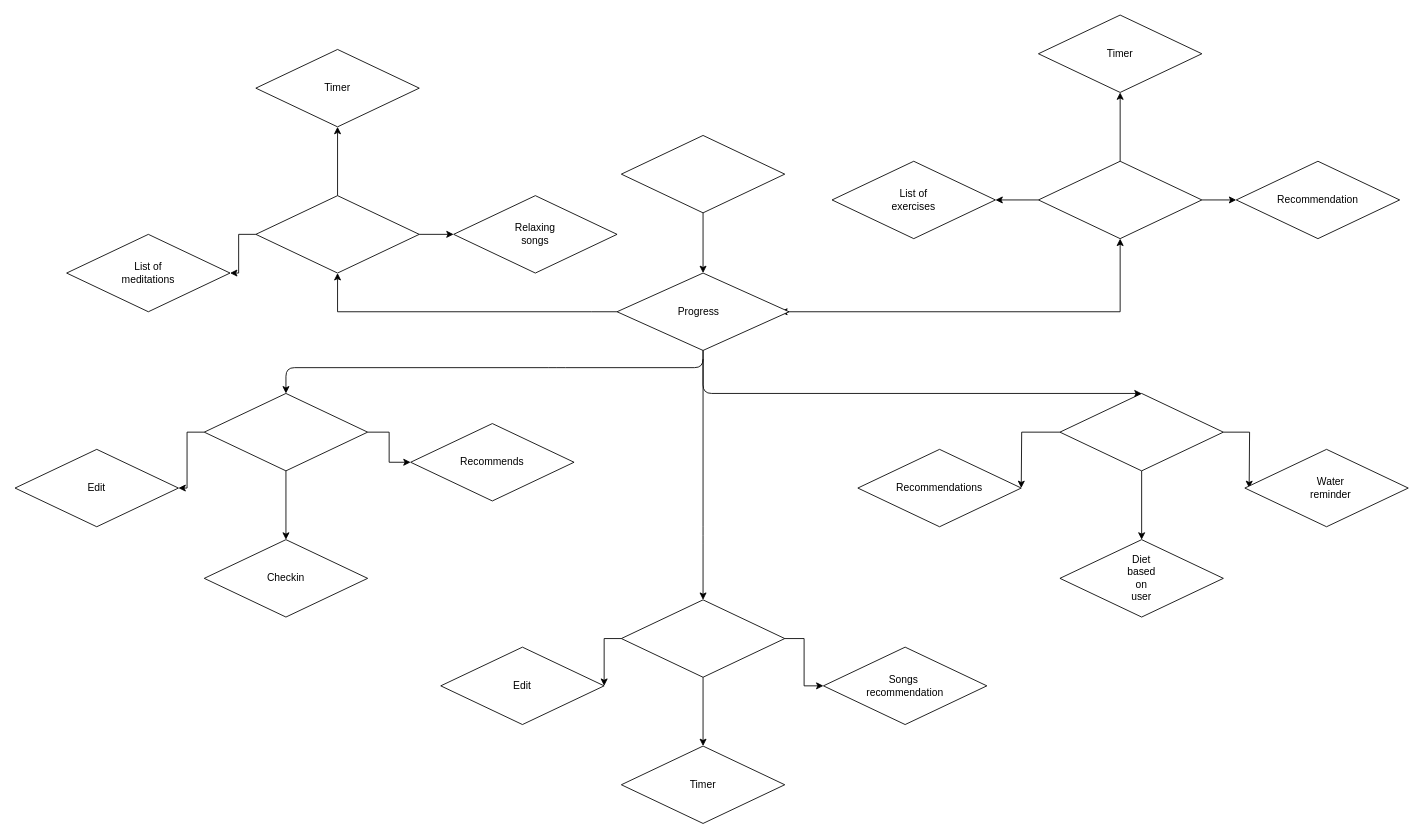
This 1423x839 diagram has some shape labels left out. The shapes that lost their labels are listed below. From the top down, each one's centre as x and y in pixels, then its label:
the point at 702,174: Home screen
the point at 1120,199: Exercises
the point at 337,234: Meditate
the point at 285,432: Sleep
the point at 1141,432: Healthy Eating
the point at 702,638: Focus
